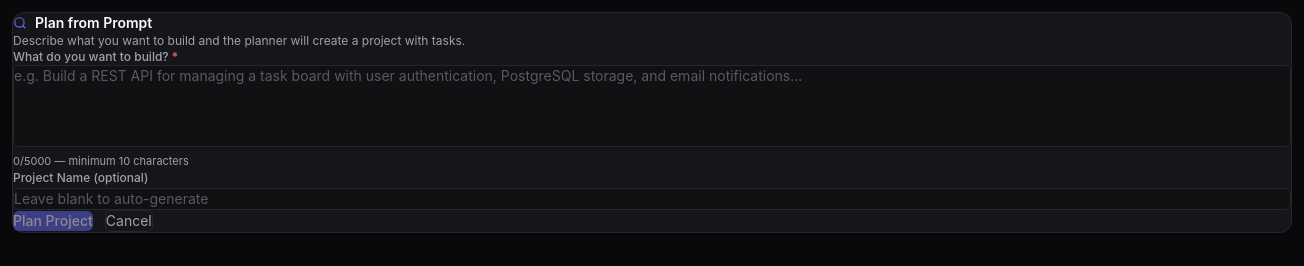
Test: PromptIntakeForm (FM-013) › surfaces the error message when submitPromptIntake rejects
Replace the text in the text box labelled "What do you want to build? *" with "Build a task board API" at (652, 106), box [13,65,1291,147]
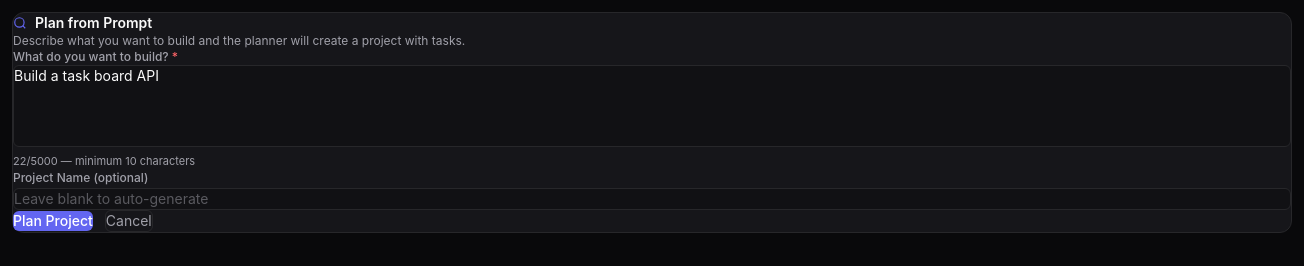
Click the button "Plan Project" at (53, 220), box [13,210,93,230]
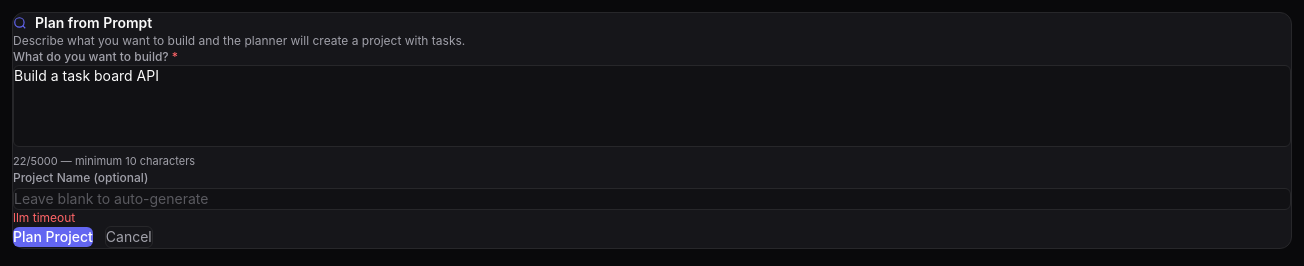
expect the text "llm timeout" is shown: met, box [13,210,75,224]
